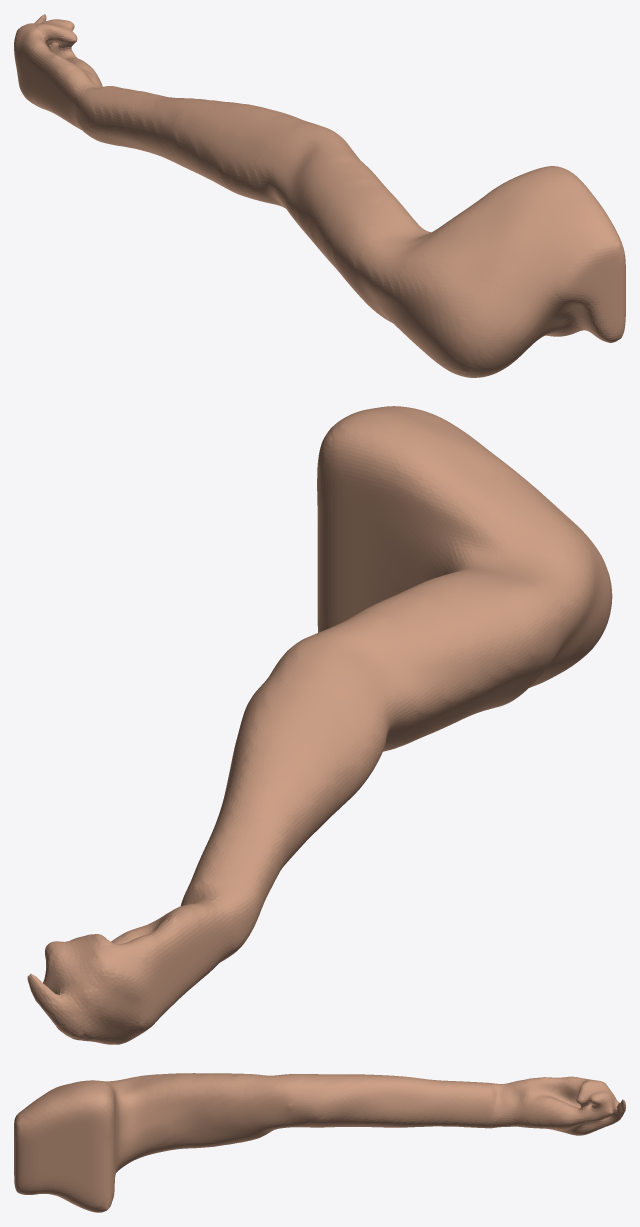
The model's file is upperextremity_skin.glb.
The picture shows the model from 3 angles, top to bottom: view 1: azimuth 30°, elevation 25°; view 2: azimuth 150°, elevation 25°; view 3: azimuth 270°, elevation 25°; orthographic projection. The views are drawn at different scales.
Parts seen in each view (by area): view 1: world; view 2: world; view 3: world.
Part boxes in pixels (x1,y1,x2,y2): world: [14, 14, 625, 377]; world: [27, 406, 612, 1044]; world: [14, 1073, 625, 1212].
Bounding box in the file's own units: 214 × 152 × 710.
